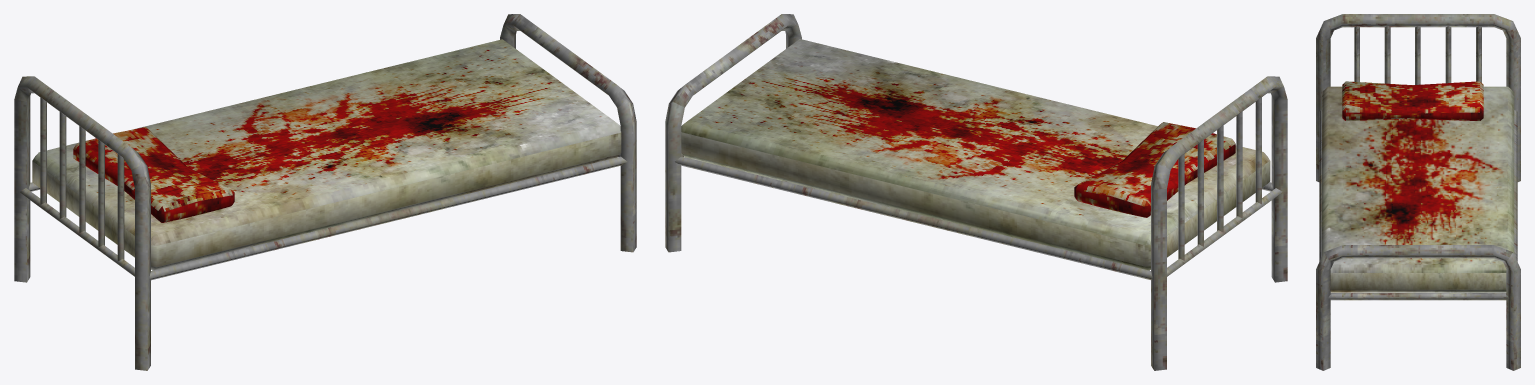
The model's file is _Bed_1_4.FBX.
3 renders of one model, left to right at view 1: azimuth 30°, elevation 25°; view 2: azimuth 150°, elevation 25°; view 3: azimuth 270°, elevation 25°, orthographic. The views are drawn at different scales.
Visible parts, largest first — view 1: _Bed_1_4; view 2: _Bed_1_4; view 3: _Bed_1_4.
Boxes of the visible parts, x1=… form: _Bed_1_4: x1=14, y1=14, x2=636, y2=370; _Bed_1_4: x1=665, y1=14, x2=1287, y2=370; _Bed_1_4: x1=1316, y1=14, x2=1520, y2=370.
Bounding box in the file's own units: 187 × 75.31 × 83.77.
3 materials, 3 textured.
